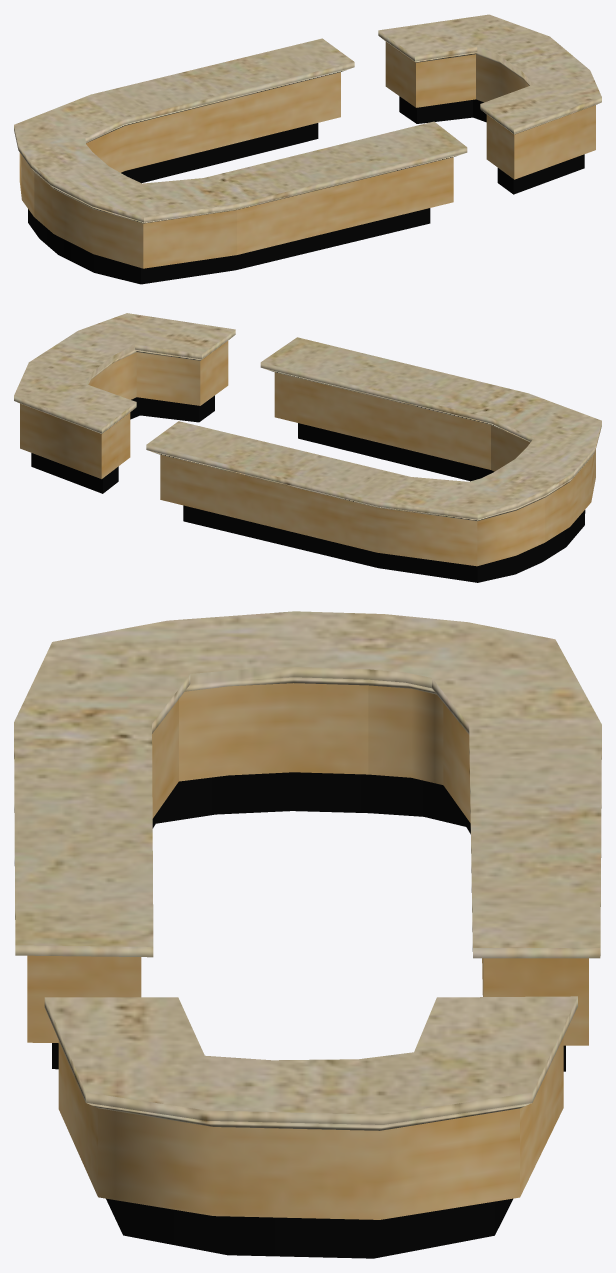
Rendered from nursing_desk_CSHAPED.fbx.
The picture shows the model from 3 angles, top to bottom: view 1: azimuth 30°, elevation 25°; view 2: azimuth 150°, elevation 25°; view 3: azimuth 270°, elevation 25°; orthographic projection. The views are drawn at different scales.
Parts seen in each view (by area): view 1: pCube13; view 2: pCube13; view 3: pCube13.
Part boxes in pixels (bbox=[...]): pCube13: bbox=[14, 14, 601, 284]; pCube13: bbox=[14, 313, 601, 582]; pCube13: bbox=[14, 611, 601, 1258].
Size of the model in its own units: 3.96 by 0.5523 by 1.95.
Materials: 3 (1 with a texture image).
